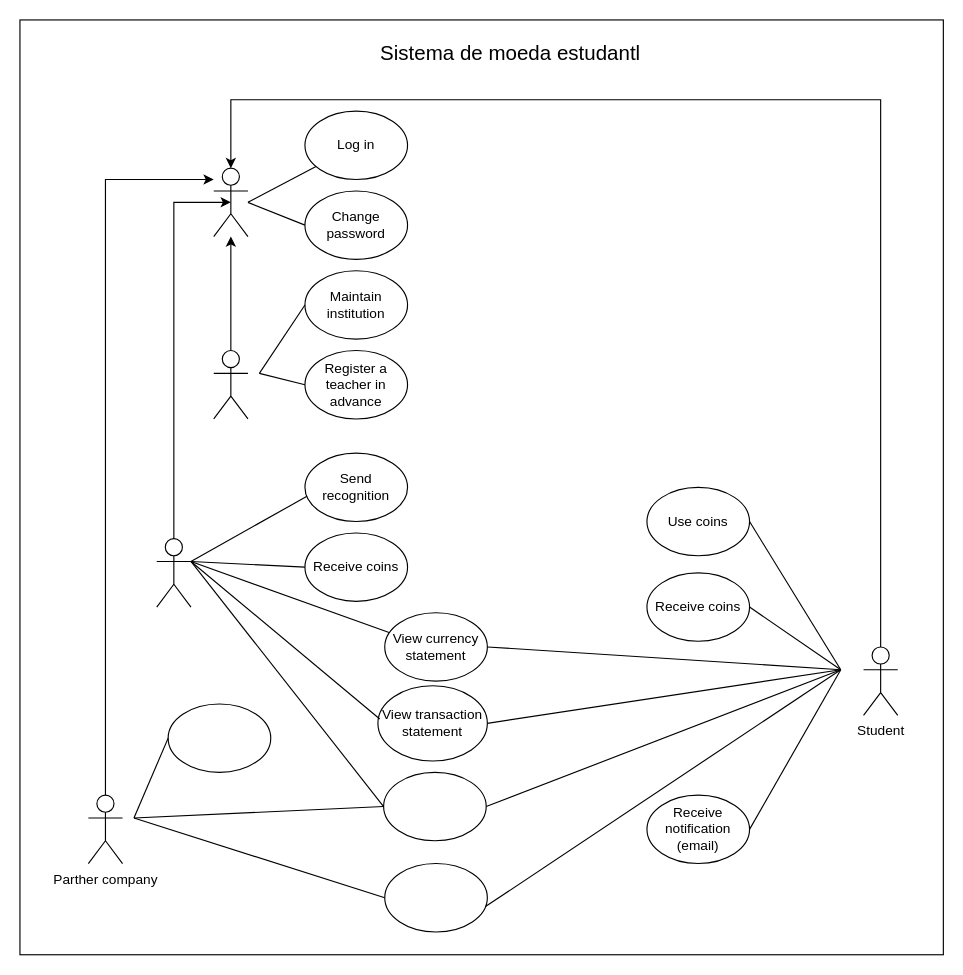
This 963x975 diagram has some shape labels left out. Here are the shapes that lost their labels. From the top down, the box of each, then its label:
(213, 167, 248, 237): Users
(213, 349, 248, 419): Administrator
(156, 538, 191, 607): Teacher
(167, 703, 271, 772): Mainrain advantage
(382, 771, 486, 841): Register
(384, 862, 487, 932): Receive coupon (email)
